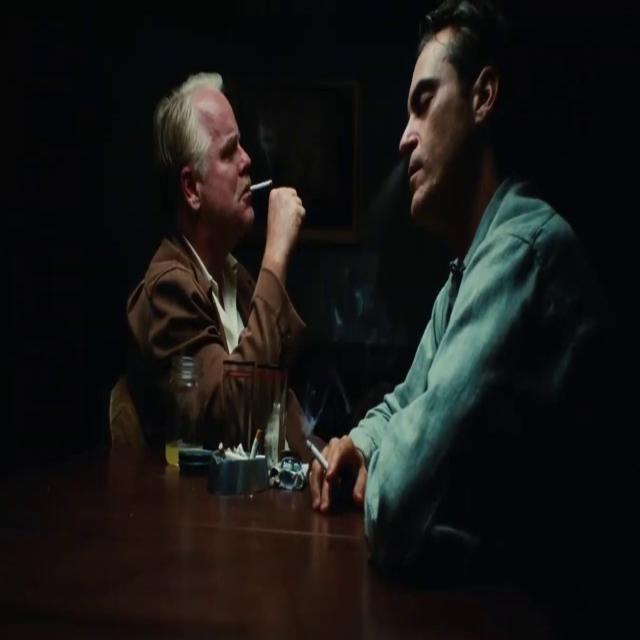Smooking: (247, 172, 276, 198)
